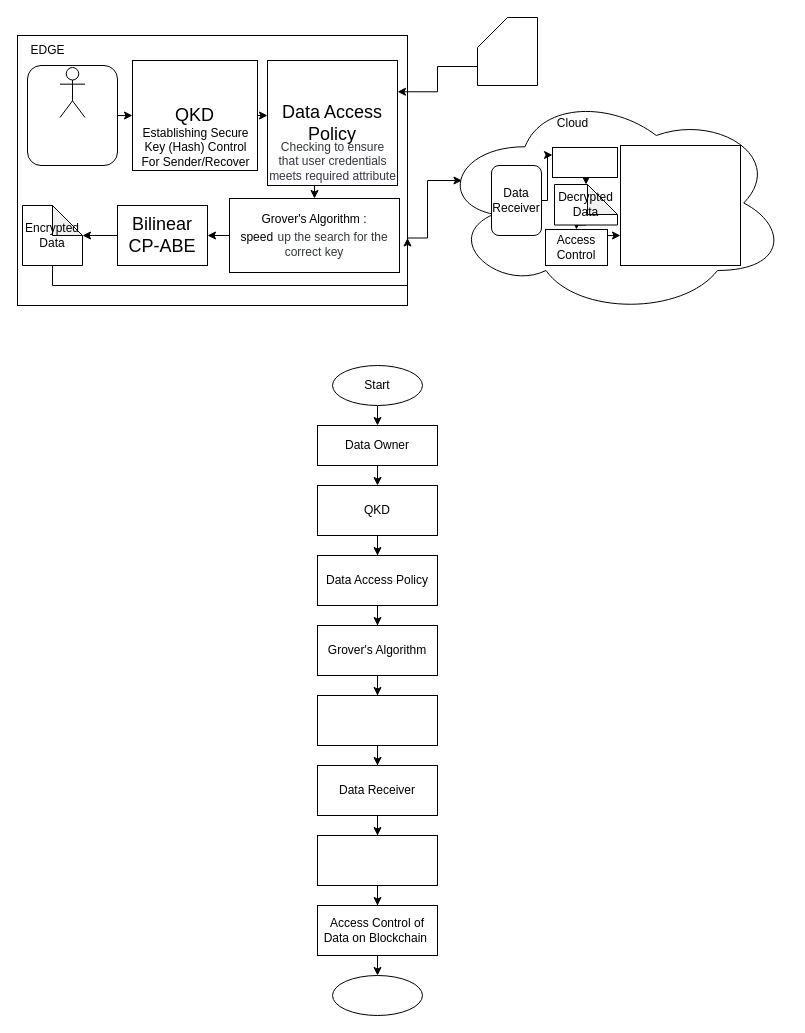
Some shapes in this 805 by 1033 pixel diagram are drawn without their labels. Here are the shapes that lost their labels. From the top down, the centre of each, then its label:
(x=507, y=51): Database
(x=72, y=92): Data Owner Sending Credentials
(x=585, y=162): Bi. CP-ABE
(x=680, y=205): Blockchain
(x=377, y=720): Bi. CP-ABE Encryption
(x=377, y=860): Bi. CP-ABE Decryption
(x=377, y=995): Stop
